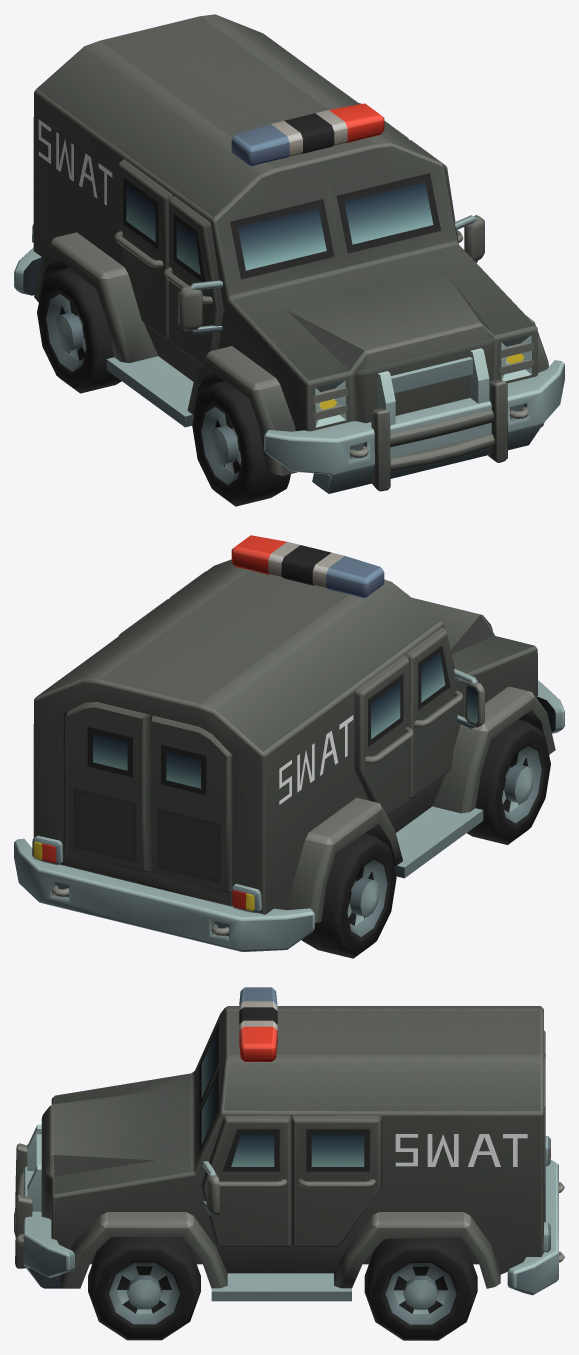
Rendered from van_SWAT.fbx.
3 renders of one model, top to bottom at view 1: azimuth 30°, elevation 25°; view 2: azimuth 150°, elevation 25°; view 3: azimuth 270°, elevation 25°, orthographic. The views are drawn at different scales.
Visible parts, largest first — view 1: van_SWAT, wheel_van_SWAT_front_right, wheel_van_SWAT_back; view 2: van_SWAT, door_van_SWAT_back_left, door_van_SWAT_back_right, wheel_van_SWAT_back, wheel_van_SWAT_front_right; view 3: van_SWAT, wheel_van_SWAT_front_left, wheel_van_SWAT_back.
Boxes of the visible parts, box(x1,y1,x2,y2) form: van_SWAT: box(14, 14, 564, 493); wheel_van_SWAT_front_right: box(192, 381, 290, 506); wheel_van_SWAT_back: box(37, 268, 121, 393); van_SWAT: box(14, 535, 564, 952); door_van_SWAT_back_left: box(65, 702, 150, 872); door_van_SWAT_back_right: box(150, 715, 232, 893); wheel_van_SWAT_back: box(302, 833, 396, 958); wheel_van_SWAT_front_right: box(467, 719, 550, 844); van_SWAT: box(14, 987, 564, 1301); wheel_van_SWAT_front_left: box(88, 1237, 200, 1340); wheel_van_SWAT_back: box(364, 1237, 477, 1340).
Bounding box in the file's own units: 356 × 316 × 600.
1 material, 1 textured.
